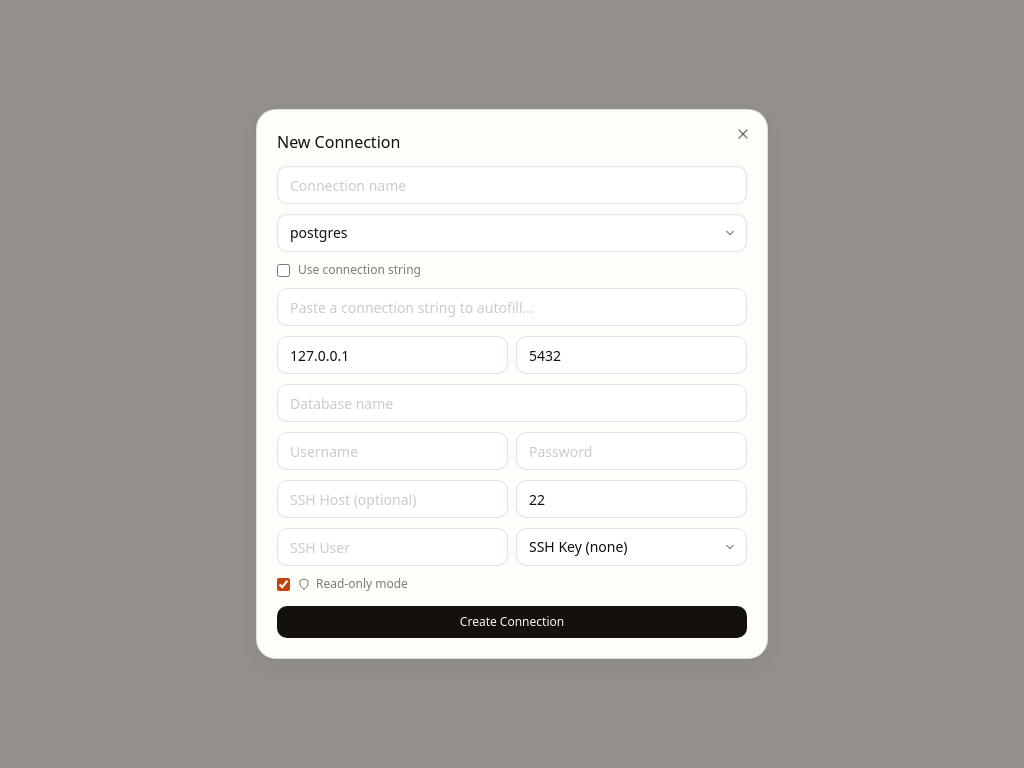
Test: ConnectionSelector — Google Analytics 4 source (SCN-113) › hides the DB/SSH fields and reveals the credential + property inputs
This screenshot has width=1024, height=768.
Expected: the field named "Database host" is shown, [277,336,508,374]
Select "Google Analytics 4" in the dropdown named "Database type": (512, 233) [277,214,747,252]
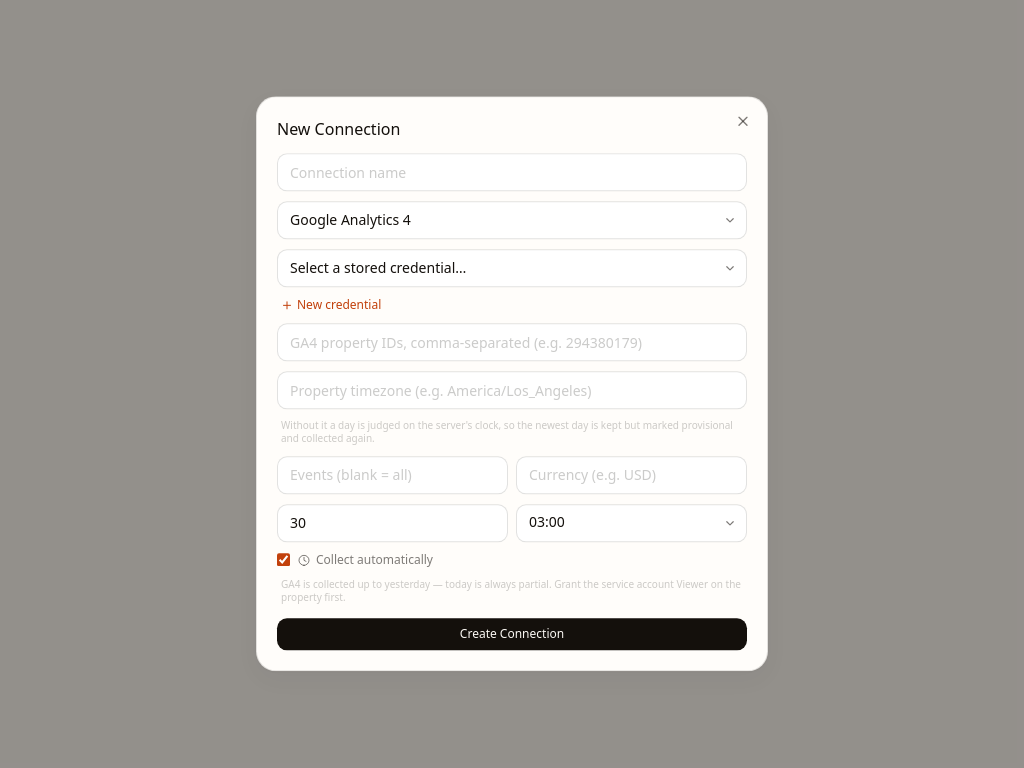
Now the field labelled "Database host" is gone
Now the field labelled "Database port" is gone
Now the field labelled "Database username" is gone
